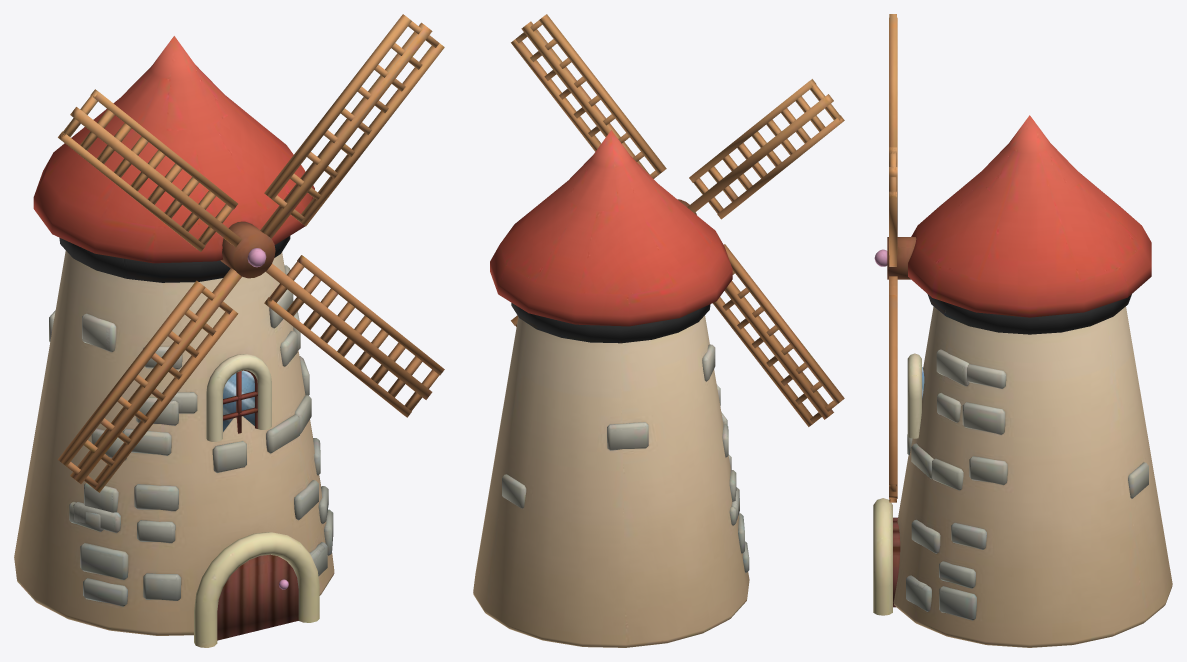
Rendered from mill_1_high.glb.
The picture shows the model from 3 angles, left to right: view 1: azimuth 30°, elevation 25°; view 2: azimuth 150°, elevation 25°; view 3: azimuth 270°, elevation 25°; orthographic projection. The views are drawn at different scales.
Visible parts, largest first — view 1: mill_1, sails; view 2: mill_1, sails; view 3: mill_1, sails.
Boxes of the visible parts, x1,y1,x2,y2 form: mill_1: (14,36,334,647); sails: (58,14,444,492); mill_1: (473,130,749,647); sails: (511,14,844,426); mill_1: (873,115,1172,647); sails: (874,14,897,502).
Bounding box in the file's own units: 1.36 × 1.95 × 1.04.
Materials: 1 (1 with a texture image).
